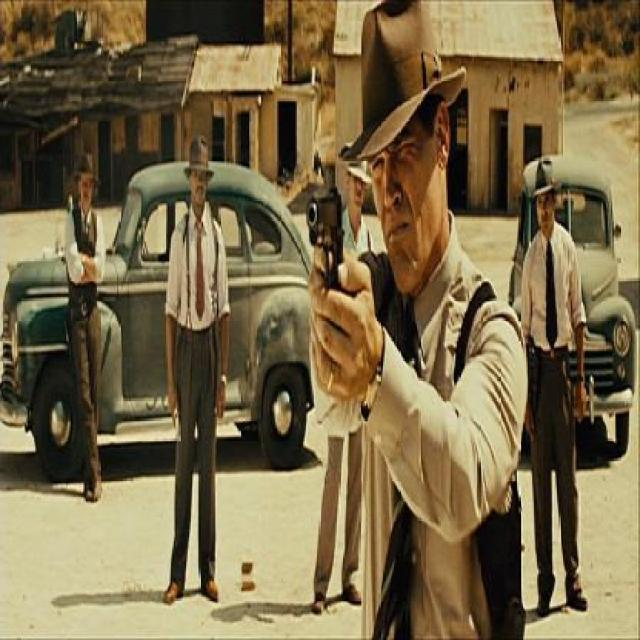gun: (297, 175, 359, 301)
